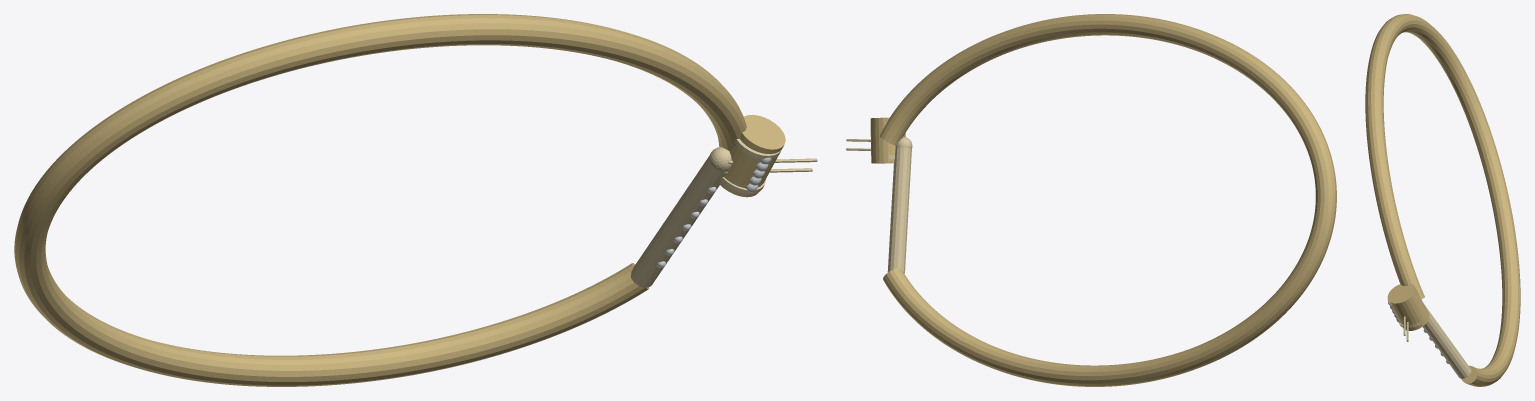
File: nail_diamond_cuff_bracelet_3d.glb
3 views of the same model, side by side, from view 1: azimuth 30°, elevation 25°; view 2: azimuth 150°, elevation 25°; view 3: azimuth 270°, elevation 25° (orthographic). The views are drawn at different scales.
Visible parts, largest first — view 1: 18k gold oval cuff band, nail-shaped gold shaft, nail head gold bezel; view 2: 18k gold oval cuff band, nail-shaped gold shaft, nail head gold bezel; view 3: 18k gold oval cuff band, nail head gold bezel, nail-shaped gold shaft.
Part boxes in pixels (x1=…): 18k gold oval cuff band: x1=14, y1=14, x2=746, y2=386; nail-shaped gold shaft: x1=631, y1=156, x2=726, y2=287; nail head gold bezel: x1=719, y1=114, x2=785, y2=197; 18k gold oval cuff band: x1=879, y1=14, x2=1336, y2=386; nail-shaped gold shaft: x1=887, y1=147, x2=911, y2=273; nail head gold bezel: x1=870, y1=117, x2=905, y2=163; 18k gold oval cuff band: x1=1365, y1=14, x2=1520, y2=386; nail head gold bezel: x1=1387, y1=284, x2=1429, y2=330; nail-shaped gold shaft: x1=1422, y1=303, x2=1471, y2=378.
Size of the model in its own units: 5.83 by 3.43 by 1.78.
